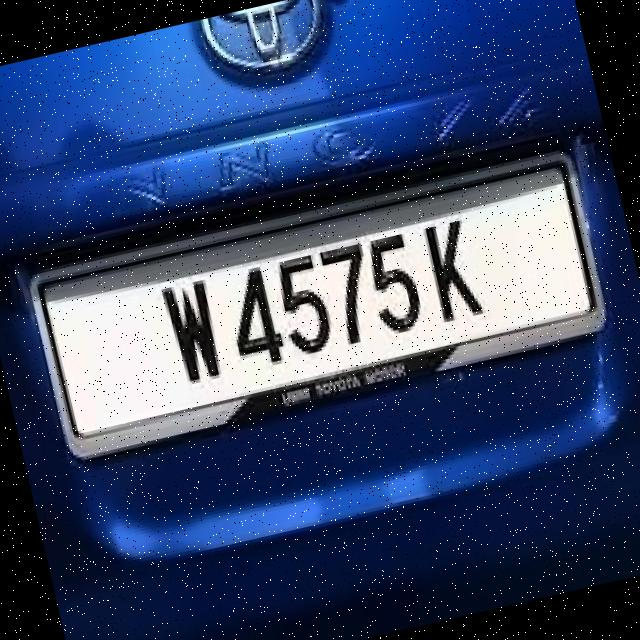License_Plate: (29, 154, 613, 462)
